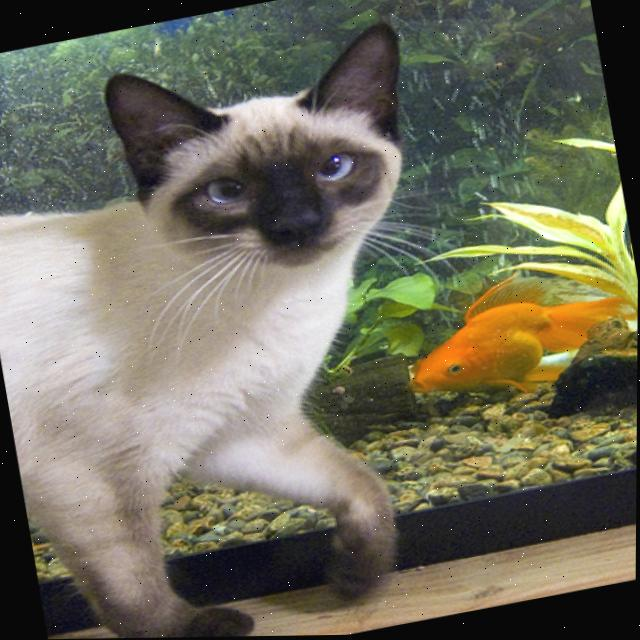Siamese: (0, 10, 504, 640)
